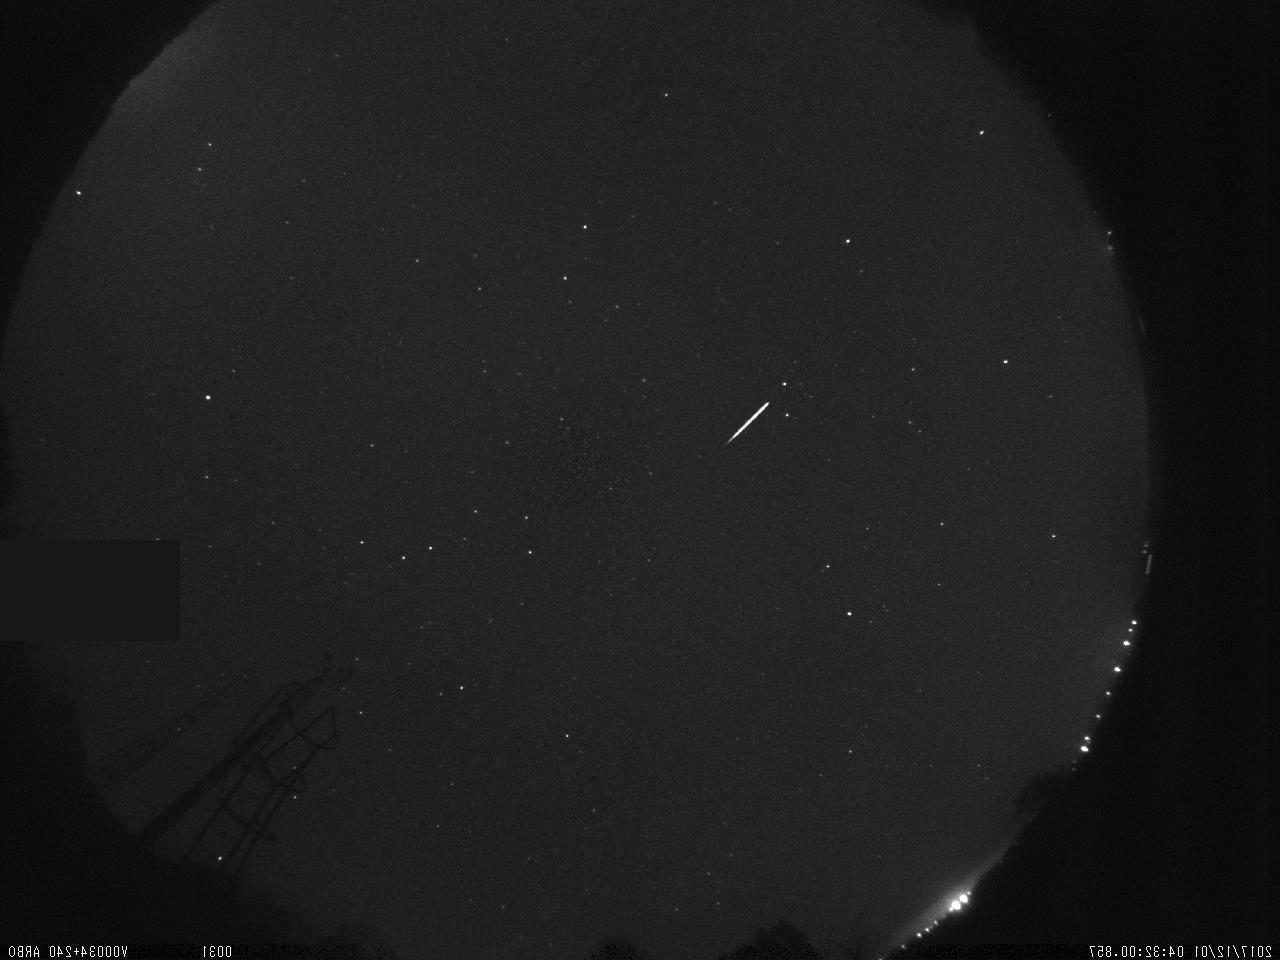meteor: (710, 371, 793, 465)
